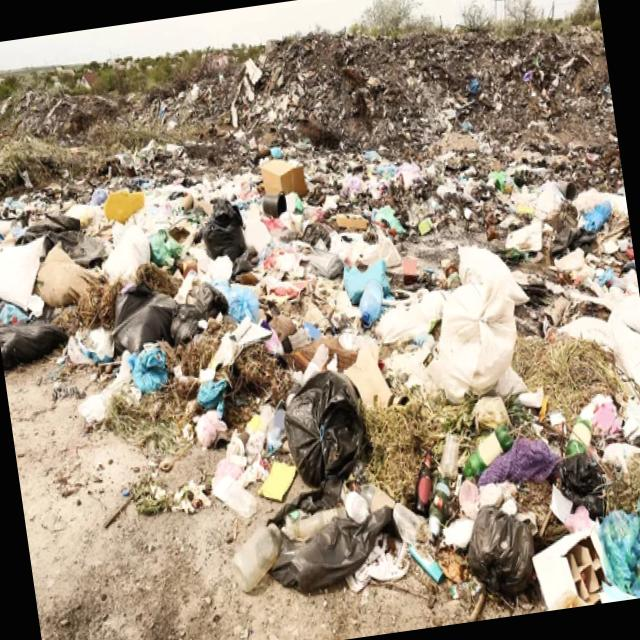garbage: (16, 69, 640, 606)
